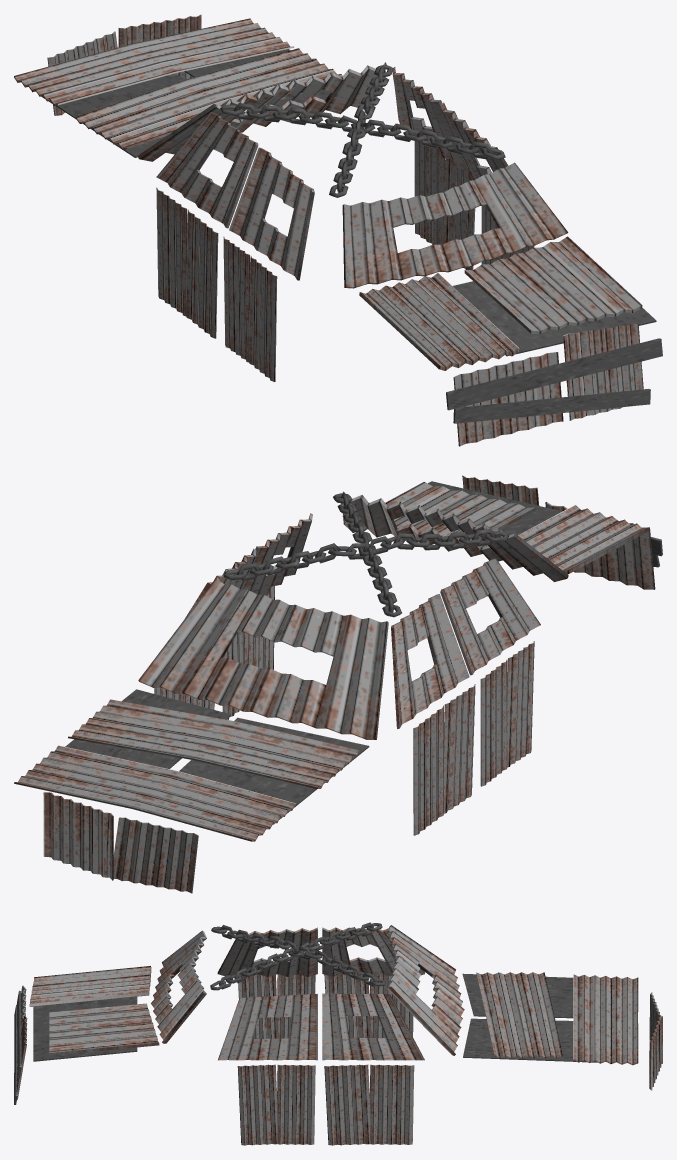
Rendered from Vehicles_CarNormal_Scrap.fbx.
The picture shows the model from 3 angles, top to bottom: view 1: azimuth 30°, elevation 25°; view 2: azimuth 150°, elevation 25°; view 3: azimuth 270°, elevation 25°; orthographic projection. The views are drawn at different scales.
Parts seen in each view (by area): view 1: normal_scrap_trunk_armor, normal_scrap_hood_armor, normal_scrap_rear_windshield_armor, normal_scrap_front_left_door_armor, normal_scrap_rear_left_window_armor, normal_scrap_chain_roof_rack, normal_scrap_front_left_window_armor, normal_scrap_rear_left_door_armor, normal_scrap_windshield_armor, normal_scrap_front_right_door_armor, normal_scrap_bullbar_armor, normal_scrap_front_right_window_armor (+1 smaller); view 2: normal_scrap_hood_armor, normal_scrap_windshield_armor, normal_scrap_trunk_armor, normal_scrap_bullbar_armor, normal_scrap_front_left_door_armor, normal_scrap_front_left_window_armor, normal_scrap_rear_left_door_armor, normal_scrap_rear_left_window_armor, normal_scrap_chain_roof_rack, normal_scrap_rear_windshield_armor, normal_scrap_rear_right_window_armor, normal_scrap_rear_right_door_armor; view 3: normal_scrap_hood_armor, normal_scrap_trunk_armor, normal_scrap_front_right_door_armor, normal_scrap_rear_right_door_armor, normal_scrap_rear_right_window_armor, normal_scrap_windshield_armor, normal_scrap_front_right_window_armor, normal_scrap_chain_roof_rack, normal_scrap_rear_windshield_armor, normal_scrap_rear_left_window_armor, normal_scrap_rear_left_door_armor, normal_scrap_front_left_window_armor (+2 smaller).
Boxes of the visible parts, x1,y1,x2,y2 form: normal_scrap_trunk_armor: (359, 236, 662, 446); normal_scrap_hood_armor: (14, 18, 342, 157); normal_scrap_rear_windshield_armor: (342, 162, 568, 288); normal_scrap_front_left_door_armor: (156, 187, 218, 338); normal_scrap_rear_left_window_armor: (229, 147, 314, 280); normal_scrap_chain_roof_rack: (220, 64, 505, 197); normal_scrap_front_left_window_armor: (156, 112, 258, 228); normal_scrap_rear_left_door_armor: (223, 236, 277, 381); normal_scrap_windshield_armor: (138, 62, 386, 161); normal_scrap_front_right_door_armor: (414, 140, 475, 269); normal_scrap_bullbar_armor: (47, 14, 201, 115); normal_scrap_front_right_window_armor: (392, 67, 468, 169); normal_scrap_hood_armor: (14, 689, 369, 841); normal_scrap_windshield_armor: (138, 579, 388, 739); normal_scrap_trunk_armor: (367, 475, 662, 589); normal_scrap_bullbar_armor: (43, 792, 198, 893); normal_scrap_front_left_door_armor: (413, 684, 475, 835); normal_scrap_front_left_window_armor: (391, 594, 469, 728); normal_scrap_rear_left_door_armor: (480, 641, 534, 786); normal_scrap_rear_left_window_armor: (440, 558, 540, 675); normal_scrap_chain_roof_rack: (223, 492, 508, 617); normal_scrap_rear_windshield_armor: (342, 491, 568, 581); normal_scrap_rear_right_window_armor: (241, 513, 312, 594); normal_scrap_rear_right_door_armor: (222, 586, 274, 719); normal_scrap_hood_armor: (462, 972, 638, 1065); normal_scrap_trunk_armor: (14, 966, 159, 1104); normal_scrap_front_right_door_armor: (324, 1064, 414, 1145); normal_scrap_rear_right_door_armor: (237, 1064, 315, 1145); normal_scrap_rear_right_window_armor: (218, 994, 317, 1060); normal_scrap_windshield_armor: (387, 925, 464, 1055); normal_scrap_front_right_window_armor: (322, 993, 424, 1060); normal_scrap_chain_roof_rack: (210, 922, 385, 990); normal_scrap_rear_windshield_armor: (151, 930, 206, 1043); normal_scrap_rear_left_window_armor: (217, 927, 317, 976); normal_scrap_rear_left_door_armor: (238, 974, 315, 1038); normal_scrap_front_left_window_armor: (322, 927, 424, 976).
Size of the model in its own units: 0.8915 by 0.68 by 2.59.
